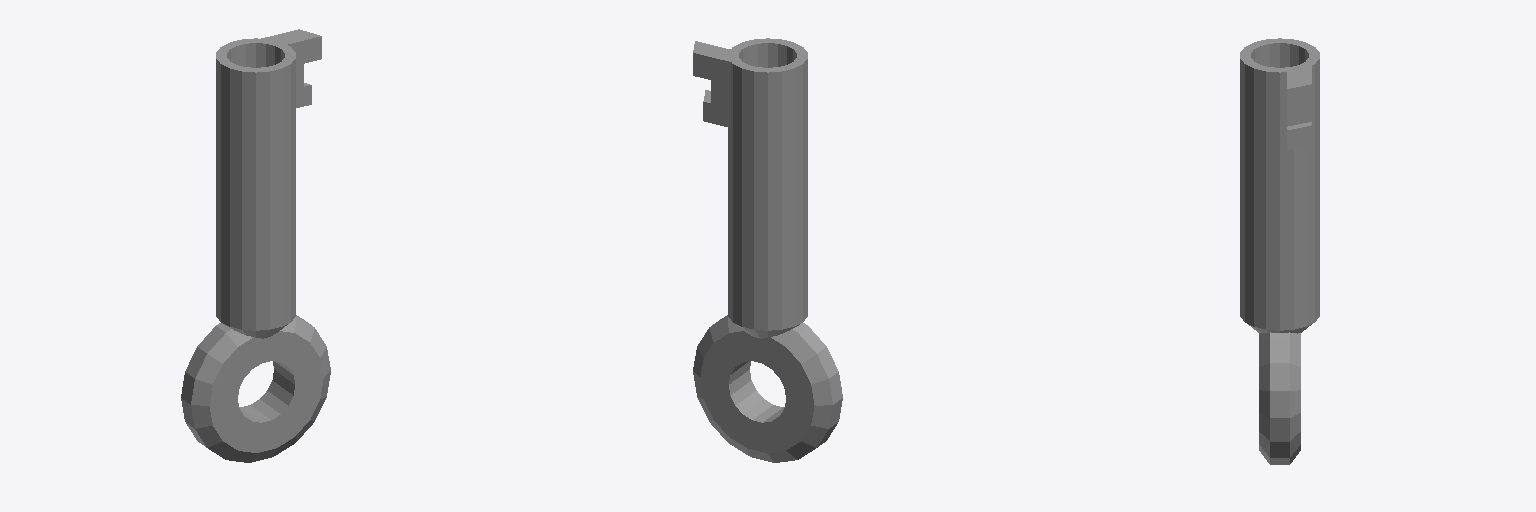
File: switch_key.obj
3 views of the same model, side by side, from view 1: azimuth 30°, elevation 25°; view 2: azimuth 150°, elevation 25°; view 3: azimuth 270°, elevation 25° (orthographic).
Parts seen in each view (by area): view 1: Cube_Cube.001; view 2: Cube_Cube.001; view 3: Cube_Cube.001.
Boxes of the visible parts, box(x1,y1,x2,y2) form: Cube_Cube.001: box(181, 29, 330, 462); Cube_Cube.001: box(693, 38, 842, 462); Cube_Cube.001: box(1240, 38, 1319, 464).
Bounding box in the file's own units: 0.24 × 0.6555 × 0.1182.